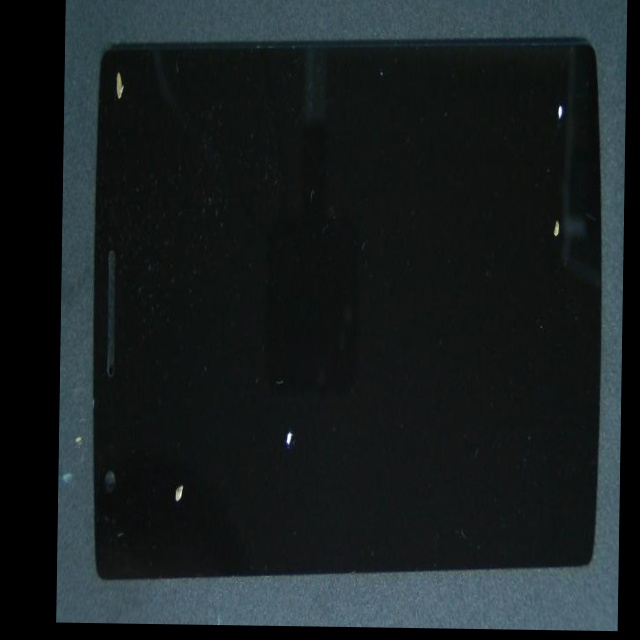stain: (188, 229, 423, 628), (320, 76, 626, 324), (130, 253, 257, 626), (309, 68, 626, 201), (110, 46, 167, 147)
